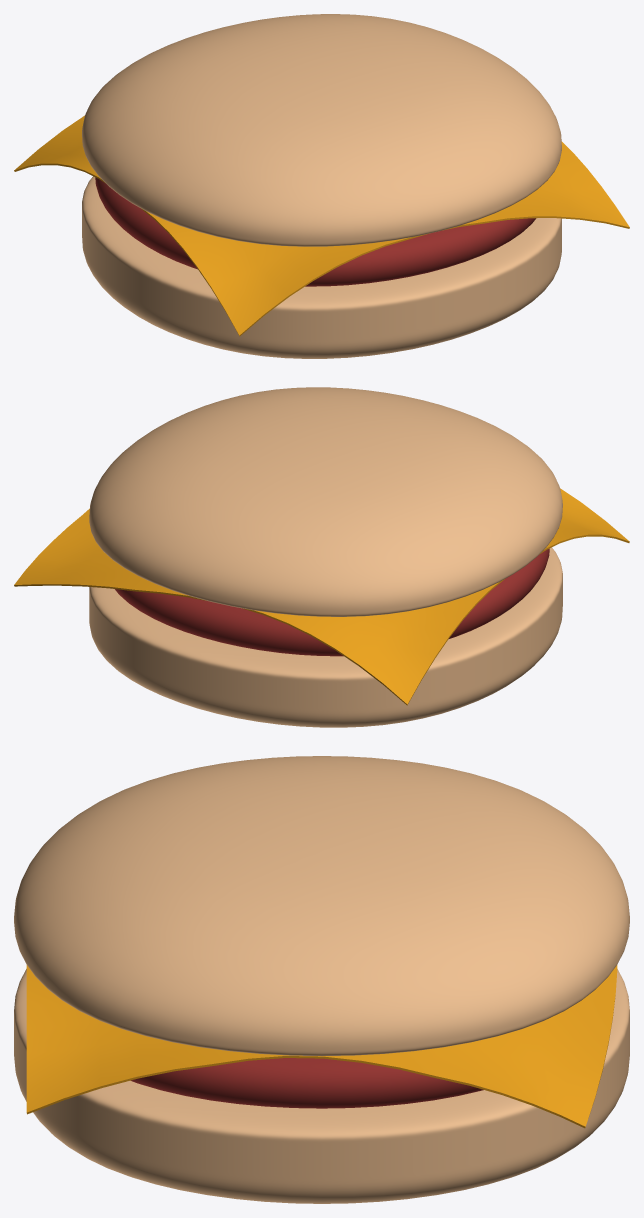
File: hamburger.glb
3 views of the same model, one above another, from view 1: azimuth 30°, elevation 25°; view 2: azimuth 150°, elevation 25°; view 3: azimuth 270°, elevation 25° (orthographic). The views are drawn at different scales.
Visible parts, largest first — view 1: Cube.002, Cube, Plane, Cube.001; view 2: Cube.002, Cube, Plane, Cube.001; view 3: Cube.002, Cube, Plane, Cube.001.
Part boxes in pixels (x1,y1,x2,y2): Cube.002: (82, 14, 561, 246); Cube: (82, 176, 561, 358); Plane: (14, 115, 629, 336); Cube.001: (95, 177, 535, 286); Cube.002: (89, 387, 562, 616); Cube: (89, 547, 562, 727); Plane: (14, 488, 629, 705); Cube.001: (115, 548, 549, 656); Cube.002: (14, 756, 629, 1056); Cube: (14, 969, 629, 1203); Plane: (26, 965, 617, 1128); Cube.001: (131, 1058, 483, 1108).
Size of the model in its own units: 1.89 by 0.9262 by 1.83.
